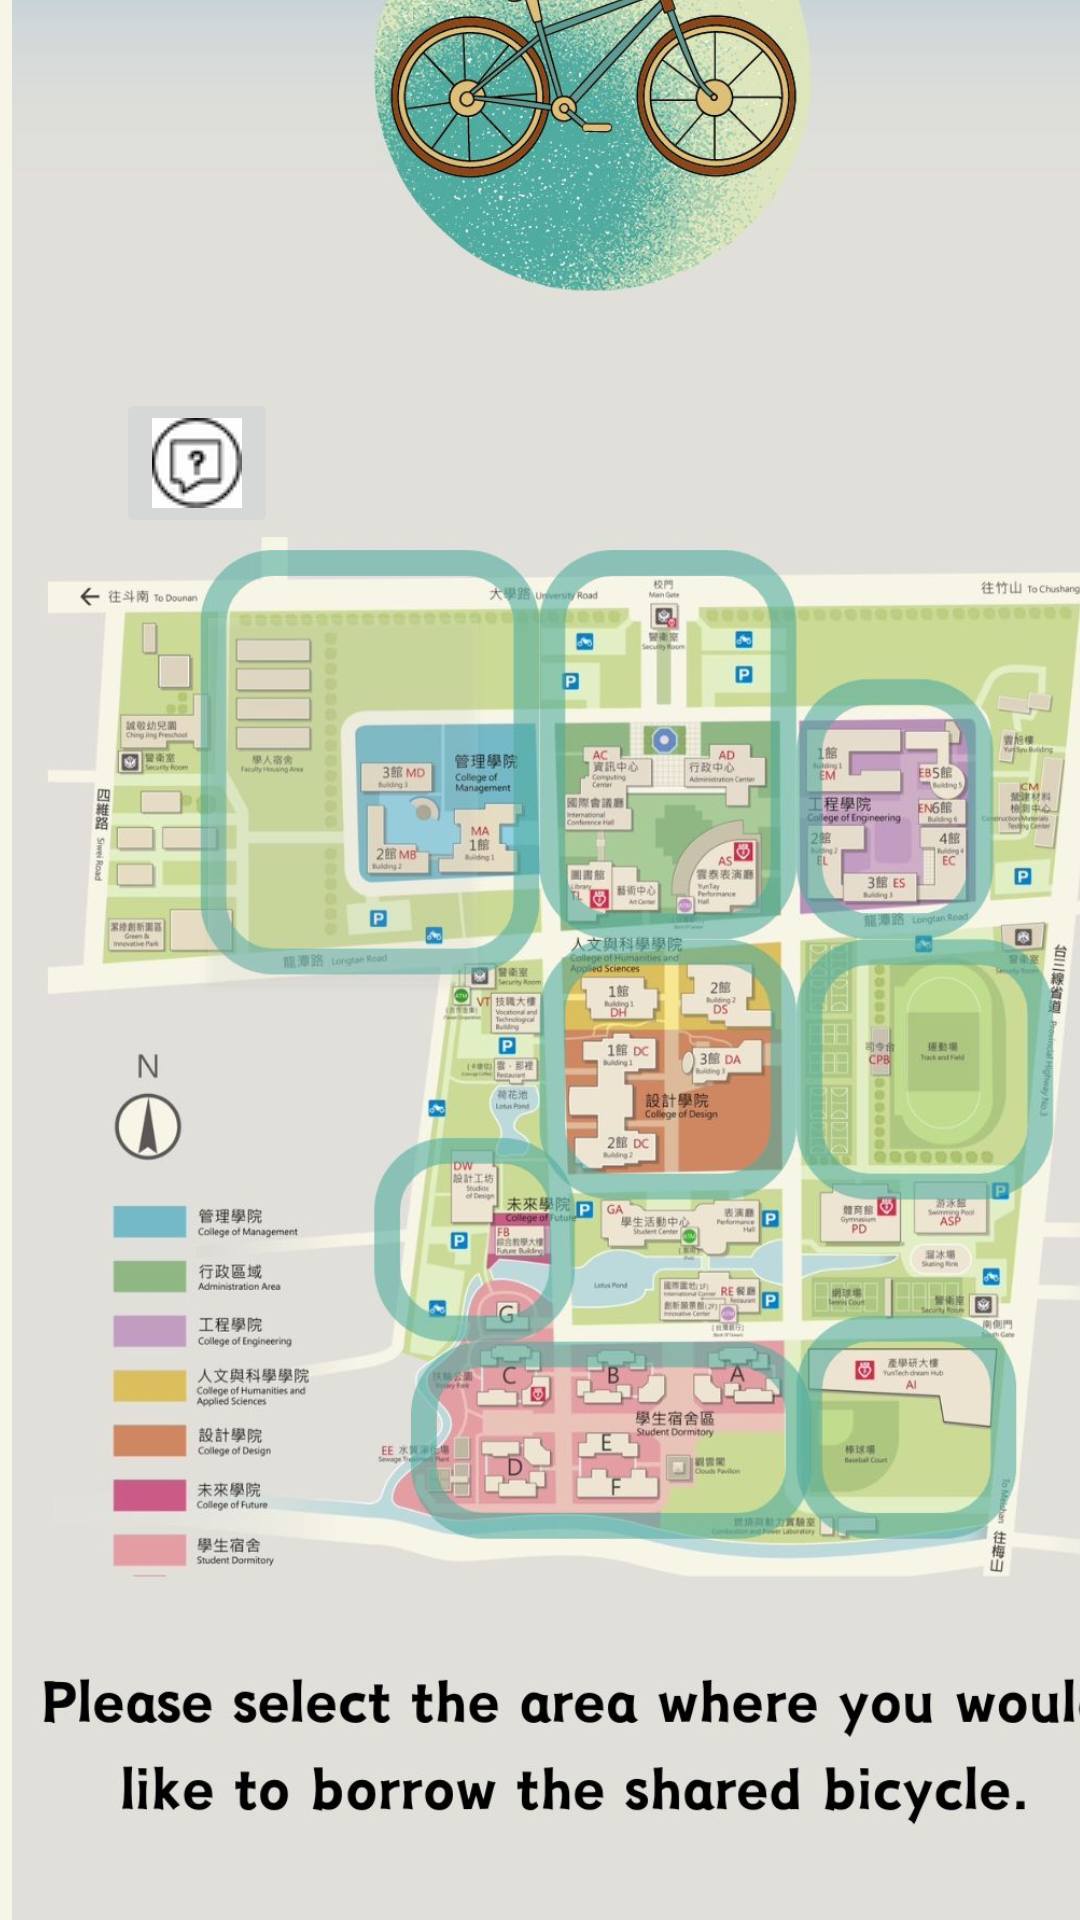

Icons on this 1080×1920 Android screen, each with the point to tap as point (x, y):
help: point (197, 463)
